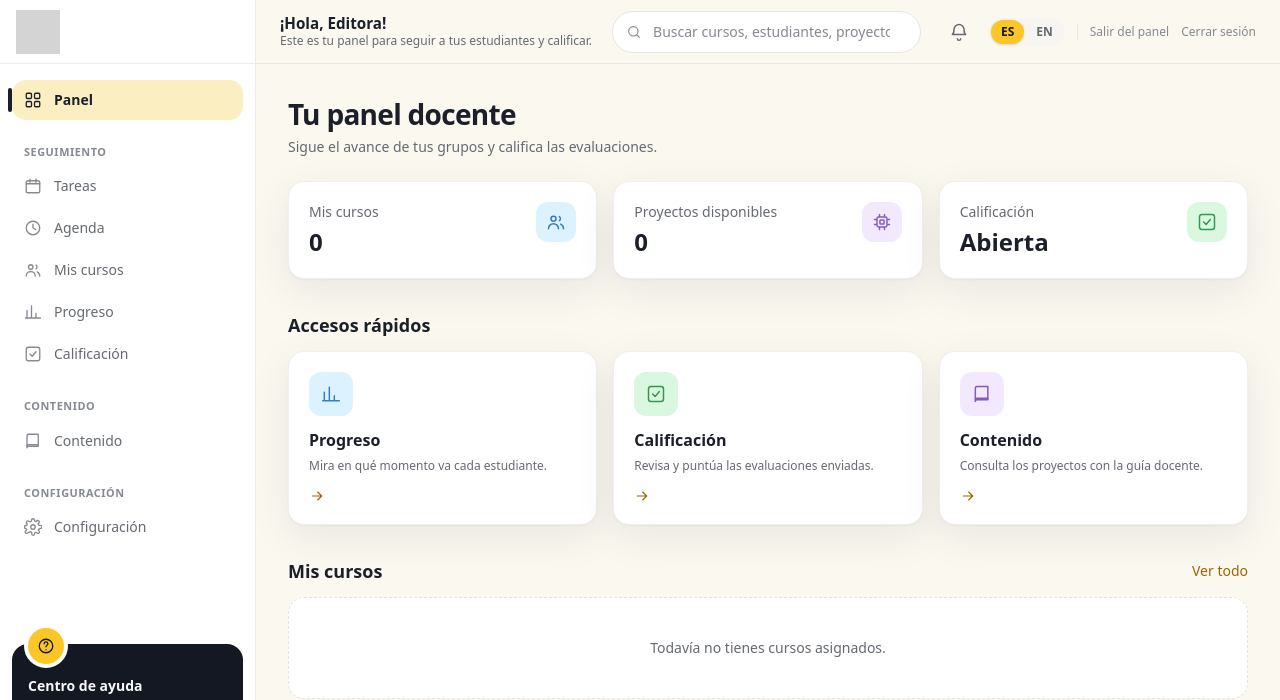
it: Panel del docente › navega a Calificación
What coordinates should you click on to do the following:
click the link "Calificación"
I would click on:
 (76, 354)
Its box is [24,344,128,363].
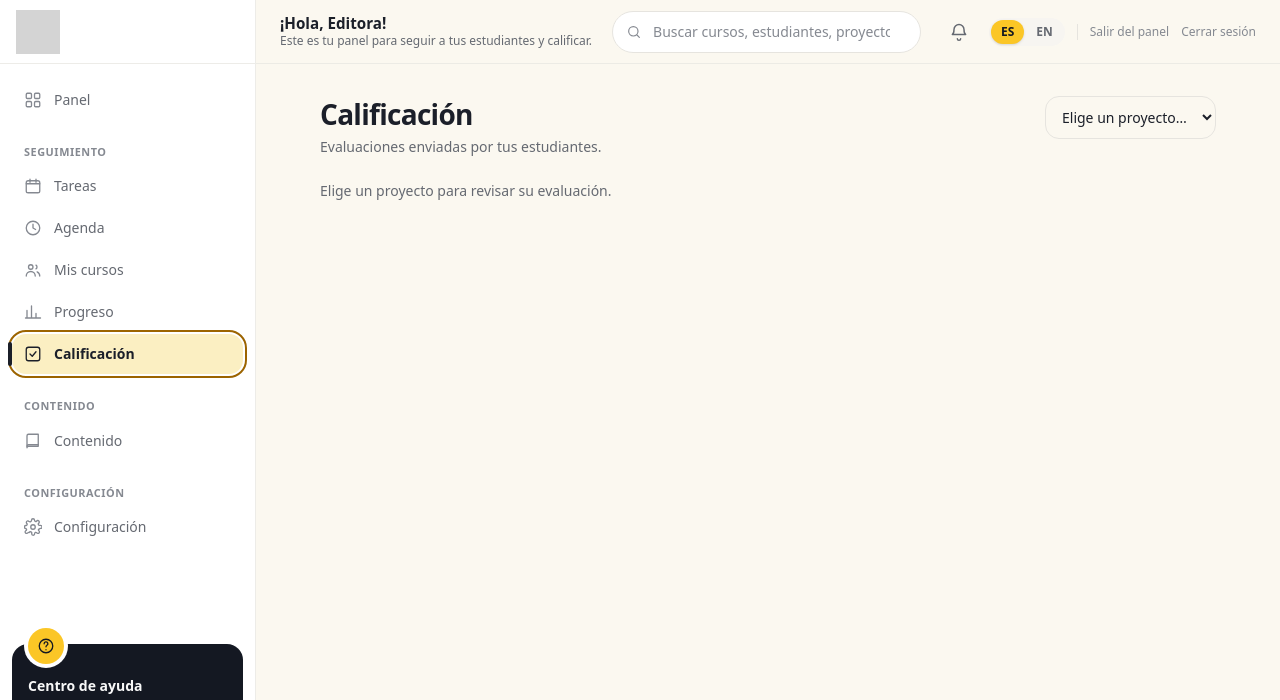
Expected: the text "Elige un proyecto para revisar su evaluación." is shown, [320,181,612,200]
